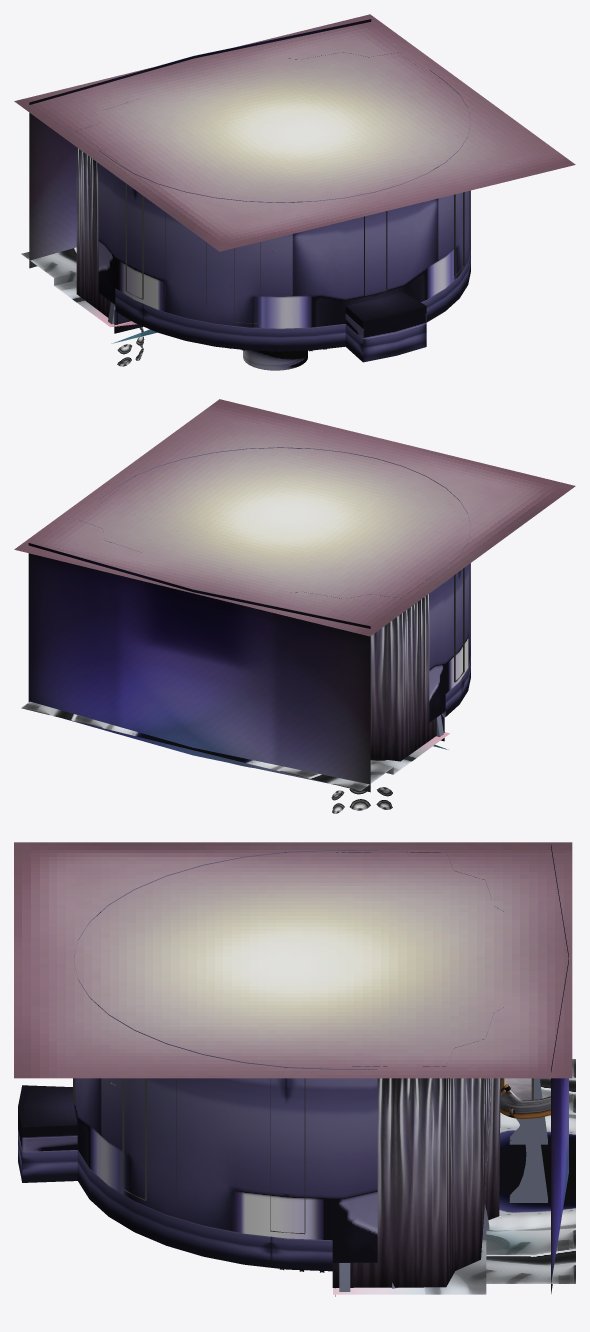
The model's file is plateau.dae.
3 renders of one model, top to bottom at view 1: azimuth 30°, elevation 25°; view 2: azimuth 150°, elevation 25°; view 3: azimuth 270°, elevation 25°, orthographic. The views are drawn at different scales.
Parts seen in each view (by area): view 1: mesh_set_Ceiling, mesh_set_room, mesh_set_backdrop, mesh_set_curtains, mesh_set_ramp, mesh_set_floor_PIVOT; view 2: mesh_set_Ceiling, mesh_set_backdrop, mesh_set_curtains, mesh_set_room, mesh_set_ramp, Morph_Set_DJette_PIVOT; view 3: mesh_set_Ceiling, mesh_set_room, mesh_set_curtains, mesh_set_ramp, mesh_set_backdrop, Mesh_Set_DecoFrame, mesh_set_CaseCrown_PIVOT, mesh_obj_soundPanel_02.
Boxes of the visible parts, <box> form: mesh_set_Ceiling: <box>14,14,575,251</box>; mesh_set_room: <box>98,70,470,362</box>; mesh_set_backdrop: <box>29,19,371,268</box>; mesh_set_curtains: <box>76,52,415,324</box>; mesh_set_ramp: <box>21,247,137,327</box>; mesh_set_floor_PIVOT: <box>243,350,307,370</box>; mesh_set_Ceiling: <box>14,399,575,636</box>; mesh_set_backdrop: <box>28,543,370,792</box>; mesh_set_curtains: <box>80,520,441,761</box>; mesh_set_room: <box>99,447,470,741</box>; mesh_set_ramp: <box>21,701,449,790</box>; Morph_Set_DJette_PIVOT: <box>331,787,392,813</box>; mesh_set_Ceiling: <box>14,842,572,1078</box>; mesh_set_room: <box>18,850,377,1296</box>; mesh_set_curtains: <box>332,852,503,1287</box>; mesh_set_ramp: <box>333,1059,575,1294</box>; mesh_set_backdrop: <box>551,844,568,1293</box>; Mesh_Set_DecoFrame: <box>509,1078,547,1202</box>; mesh_set_CaseCrown_PIVOT: <box>500,1078,550,1119</box>; mesh_obj_soundPanel_02: <box>122,1078,146,1200</box>.
Size of the model in its own units: 2000 by 1264 by 2013.
47 materials, 45 textured.
